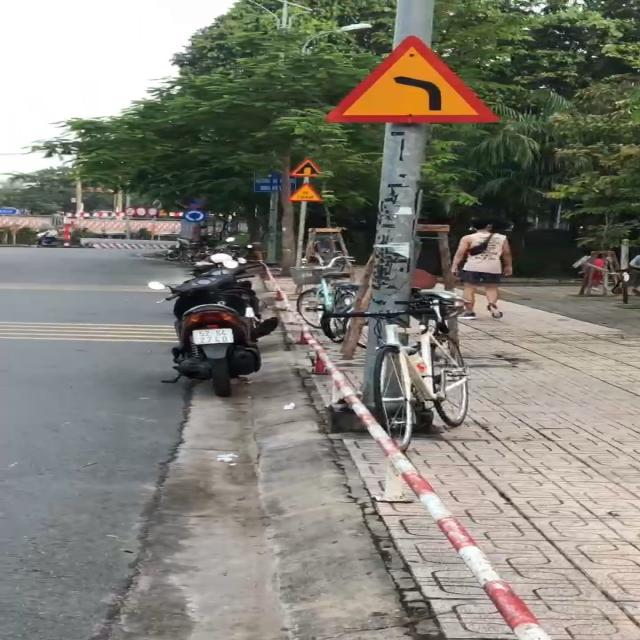Bien bao cho ngoat nguy hiem: (317, 31, 510, 130)
